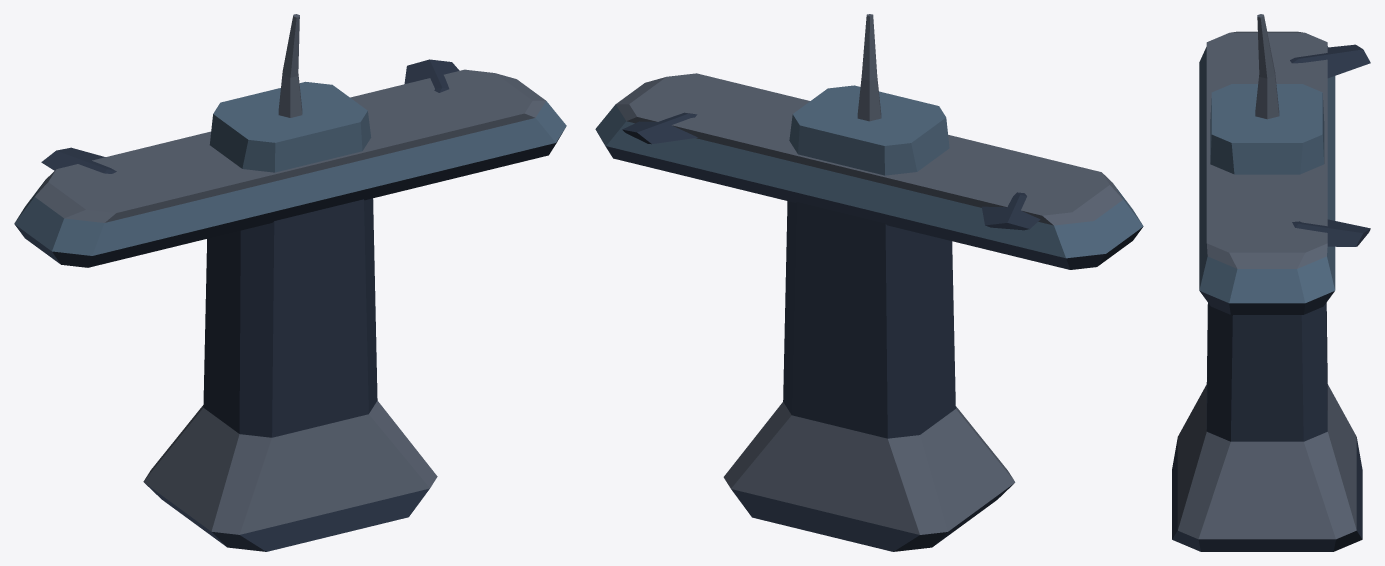
The model's file is dock-relay.glb.
3 views of the same model, side by side, from view 1: azimuth 30°, elevation 25°; view 2: azimuth 150°, elevation 25°; view 3: azimuth 270°, elevation 25° (orthographic).
Parts seen in each view (by area): view 1: dock-relay; view 2: dock-relay; view 3: dock-relay.
Boxes of the visible parts, bbox=[...] form: dock-relay: bbox=[14, 14, 566, 551]; dock-relay: bbox=[595, 14, 1143, 551]; dock-relay: bbox=[1172, 14, 1370, 551].
Bounding box in the file's own units: 7.24 × 6.54 × 2.4.
